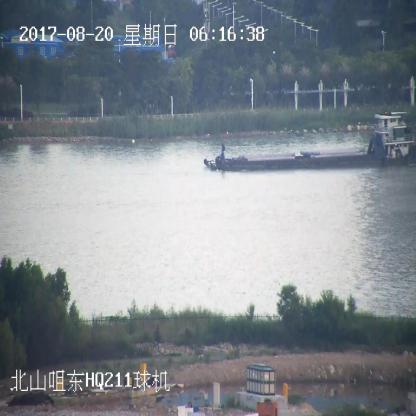Bulk Carrier: (204, 113, 416, 170)
